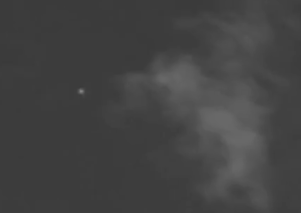Target: (79, 90, 85, 94)
